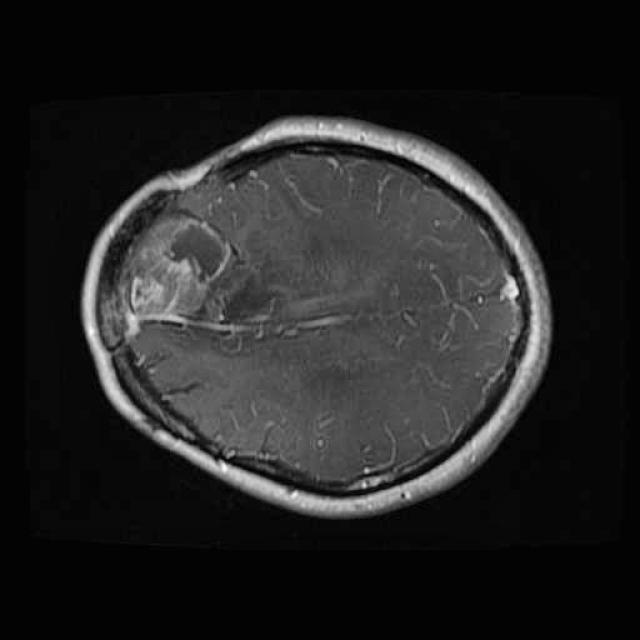Non-Tumor: (101, 192, 286, 360)
